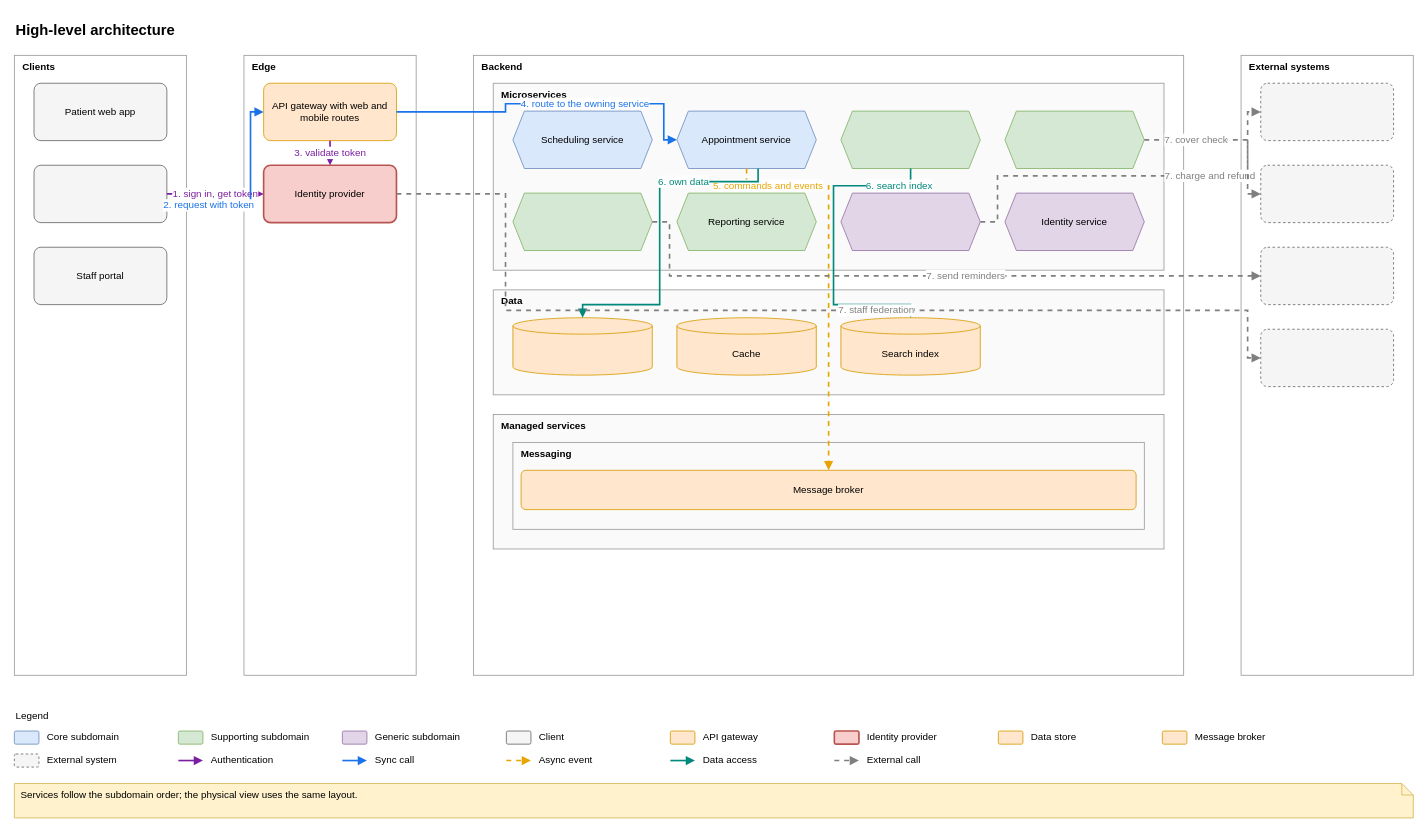
The diagram is 1428 pixels wide and 832 high, and some of its shapes have lost their labels. The shapes that lost their labels are listed below. From the top down, each one's centre as x and y in pixels, then its label:
At point (1327, 111): "Card payment provider".
At point (910, 139): "Directory service".
At point (1074, 139): "Insurance service".
At point (100, 193): "Patient mobile app".
At point (1327, 193): "Insurer API".
At point (582, 221): "Notification service".
At point (910, 221): "Payment service".
At point (1327, 275): "SMS and email provider".
At point (582, 346): "Database per service".
At point (1327, 357): "Corporate identity provider".
